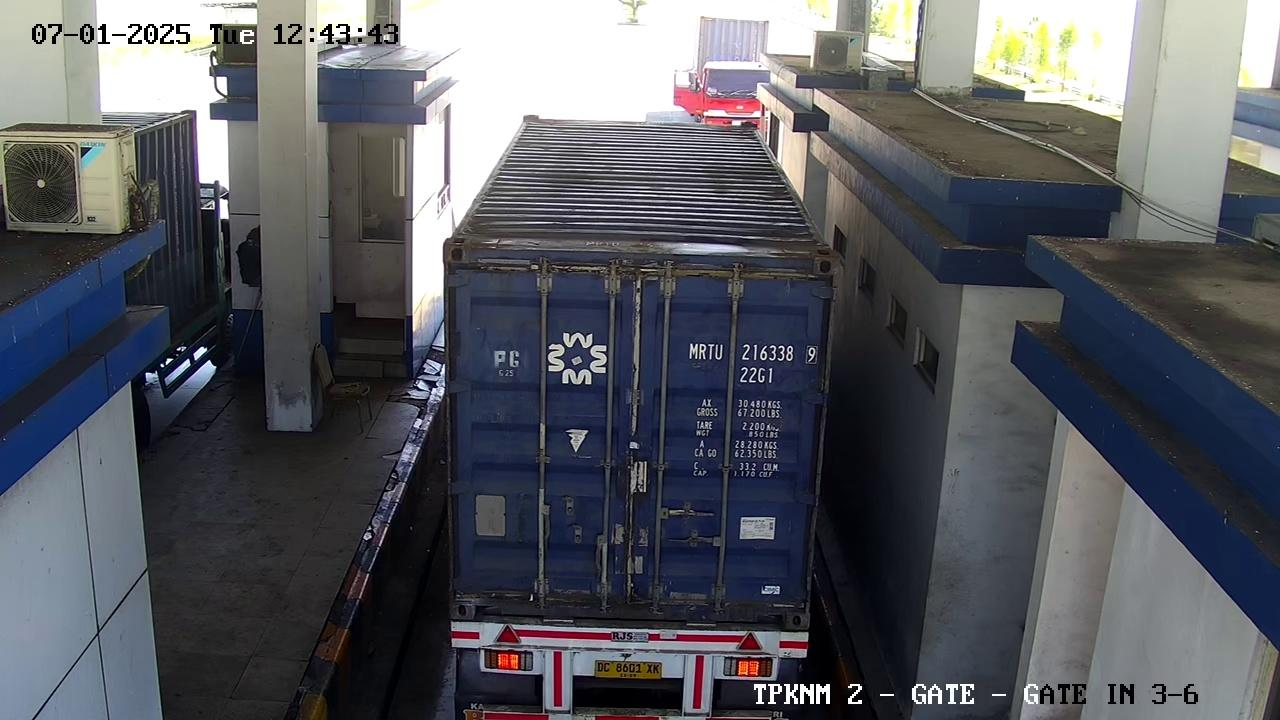Container_ID: (664, 335, 821, 389)
plate_number: (585, 653, 671, 691)
